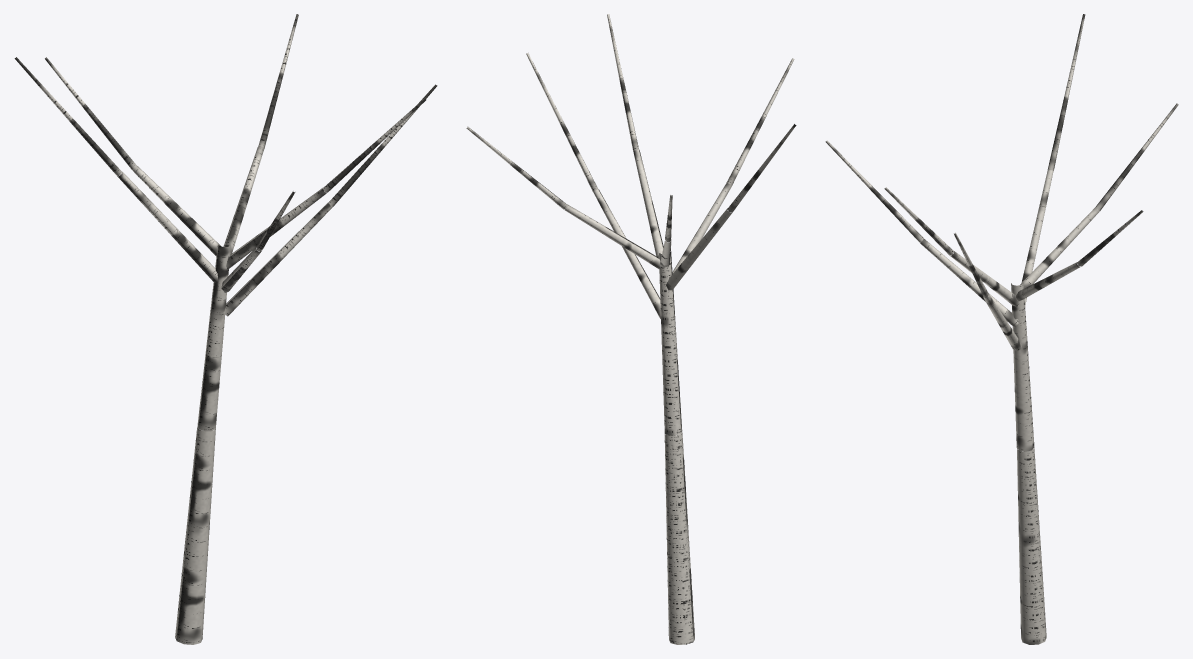
File: SM_Art_Veg_Birch_1_BirchBark.gltf
3 views of the same model, side by side, from view 1: azimuth 30°, elevation 25°; view 2: azimuth 150°, elevation 25°; view 3: azimuth 270°, elevation 25° (orthographic). The views are drawn at different scales.
Visible parts, largest first — view 1: SM_Art_Veg_Birch_1_BirchBark; view 2: SM_Art_Veg_Birch_1_BirchBark; view 3: SM_Art_Veg_Birch_1_BirchBark.
Boxes of the visible parts, x1,y1,x2,y2 form: SM_Art_Veg_Birch_1_BirchBark: (14, 14, 437, 644); SM_Art_Veg_Birch_1_BirchBark: (466, 14, 796, 644); SM_Art_Veg_Birch_1_BirchBark: (825, 14, 1178, 644).
Size of the model in its own units: 3.89 by 6.31 by 3.61.
Materials: 1 (1 with a texture image).
